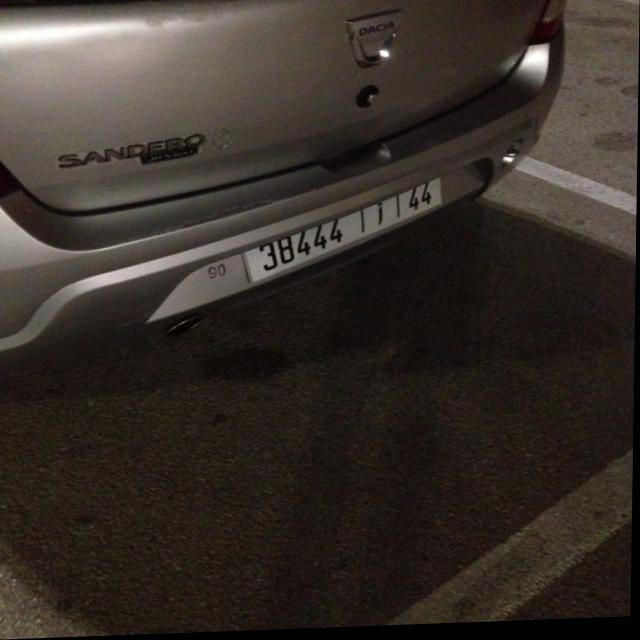License-Plate: (244, 184, 442, 284)
